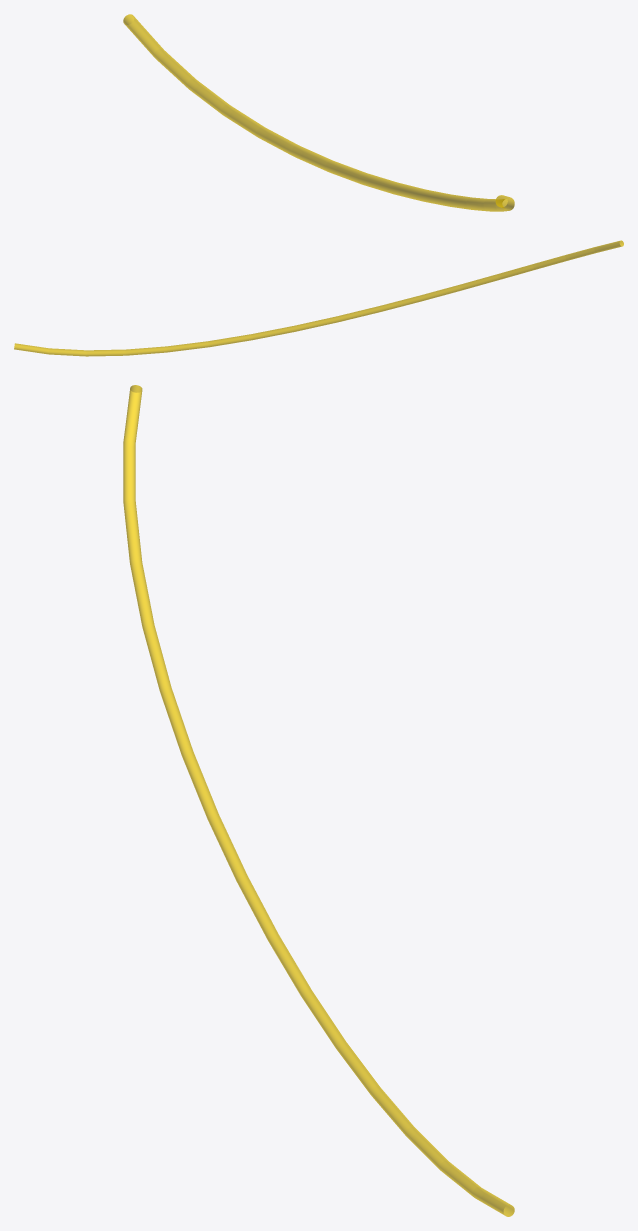
File: Event_17758602_track_65.fbx
The picture shows the model from 3 angles, top to bottom: view 1: azimuth 90°, elevation 25°; view 2: azimuth 150°, elevation 25°; view 3: azimuth 270°, elevation 25°; orthographic projection. The views are drawn at different scales.
Parts seen in each view (by area): view 1: Model; view 2: Model; view 3: Model.
Boxes of the visible parts, x1,y1,x2,y2 form: Model: (123,14,514,211); Model: (14,240,623,356); Model: (123,385,514,1216).
Size of the model in its own units: 3.83 by 1.21 by 1.26.
